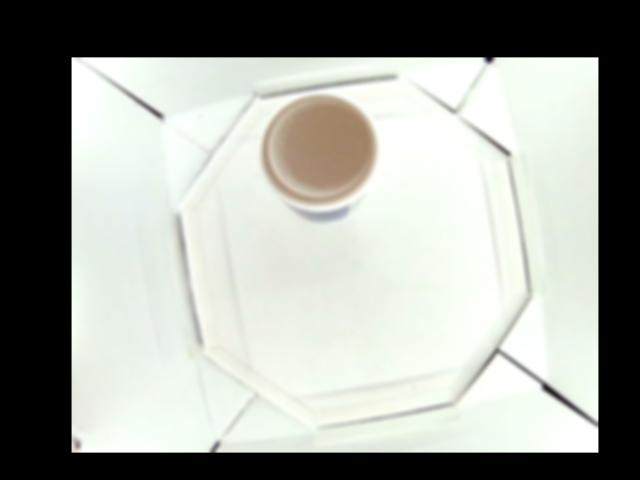Bottle: (264, 90, 383, 222)
